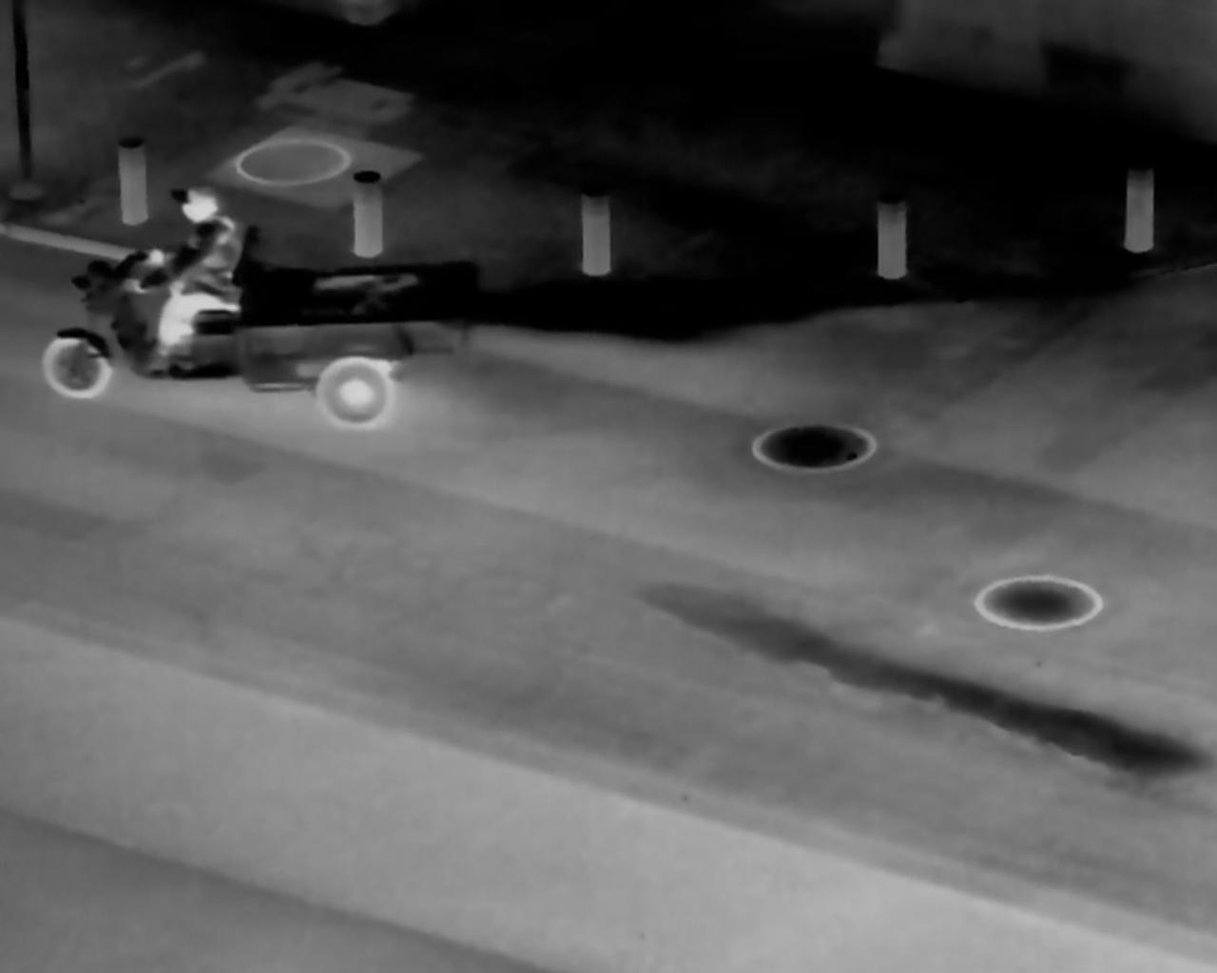person: (132, 181, 242, 372)
